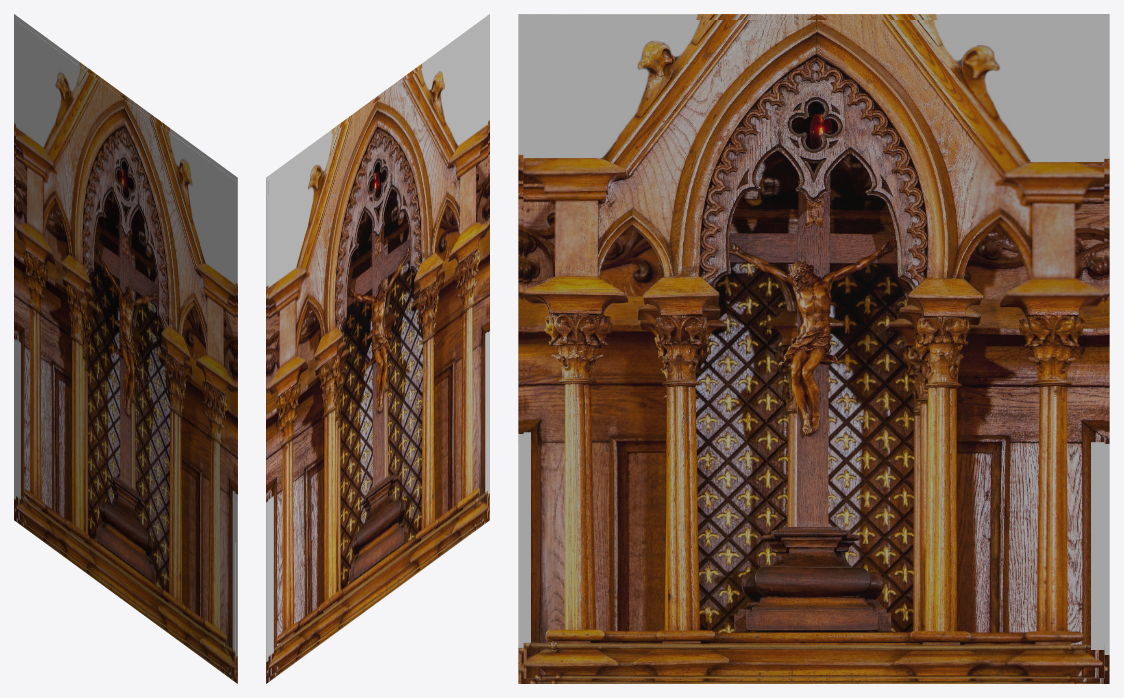
File: 2 - Tabernakulum w ołtarzu głównym.glb
3 views of the same model, side by side, from view 1: azimuth 30°, elevation 25°; view 2: azimuth 150°, elevation 25°; view 3: azimuth 270°, elevation 25° (orthographic). The views are drawn at different scales.
Parts seen in each view (by area): view 1: Plane; view 2: Plane; view 3: Plane.
Part boxes in pixels (x1,y1,x2,y2): Plane: (14,14,237,683); Plane: (266,14,489,683); Plane: (518,14,1109,683).
Bounding box in the file's own units: 0.0246 × 20 × 16.
Materials: 1 (1 with a texture image).
